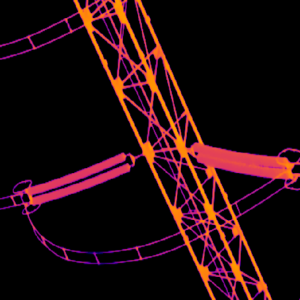insulator: (26, 149, 126, 196), (28, 161, 129, 205), (195, 151, 293, 180), (190, 140, 289, 168)
